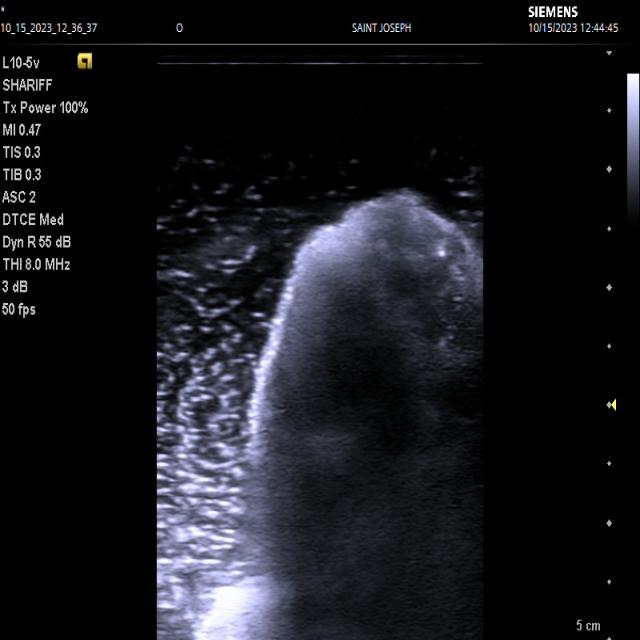tissue: (214, 188, 487, 640)
